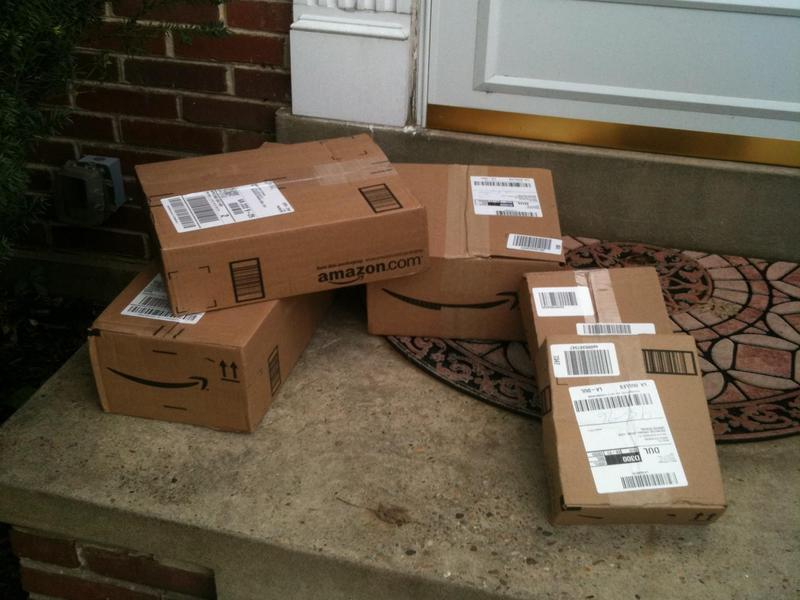package: (126, 126, 436, 321), (527, 326, 734, 536), (79, 310, 322, 444), (425, 154, 571, 339)
